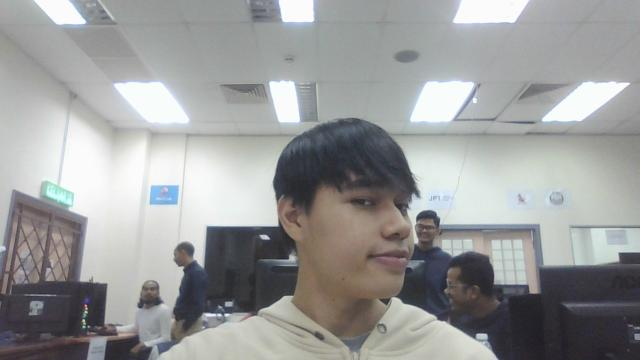senang: (267, 122, 423, 302)
